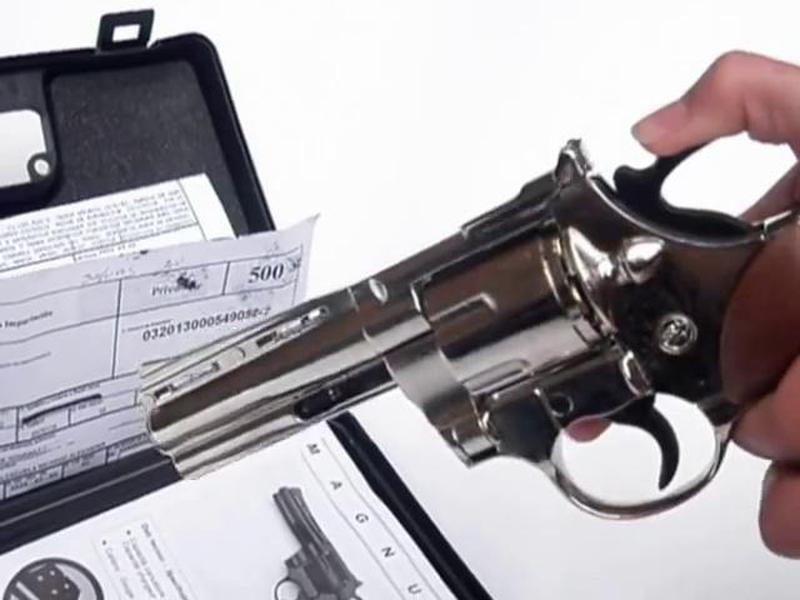Revolver: (129, 131, 800, 522)
